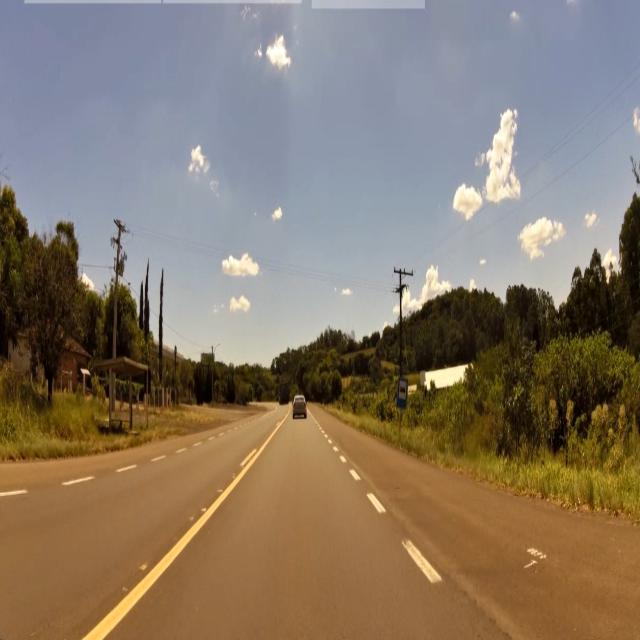S-14: (397, 376, 407, 410)
